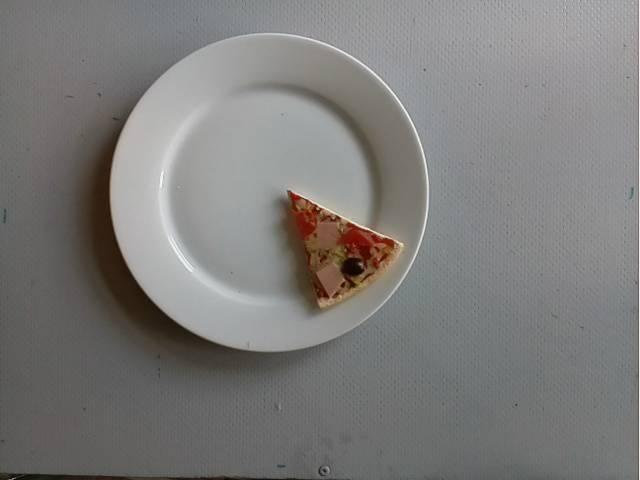Pizza slice (ham): (285, 184, 401, 306)
